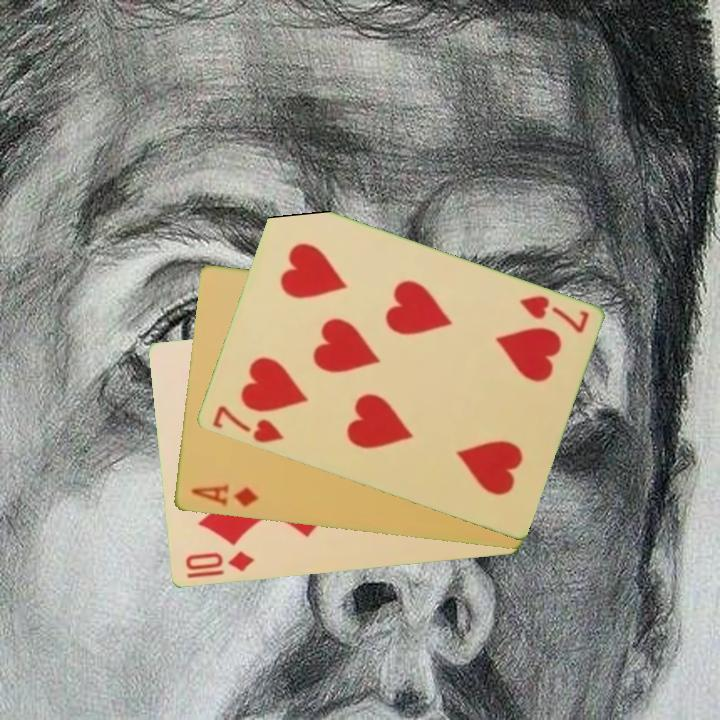10d: (181, 548, 257, 582)
7h: (208, 402, 287, 446), (515, 292, 591, 337)
Ad: (187, 481, 261, 510)
